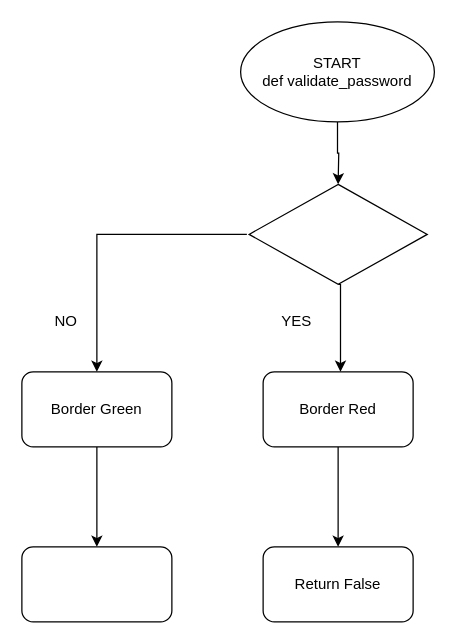
Image size: 456x644. Some labels were removed from this diagram. Each missing label, with the centre of its shape:
"if len(password) < 8" belongs at point (337, 233).
"Return True" belongs at point (96, 584).
